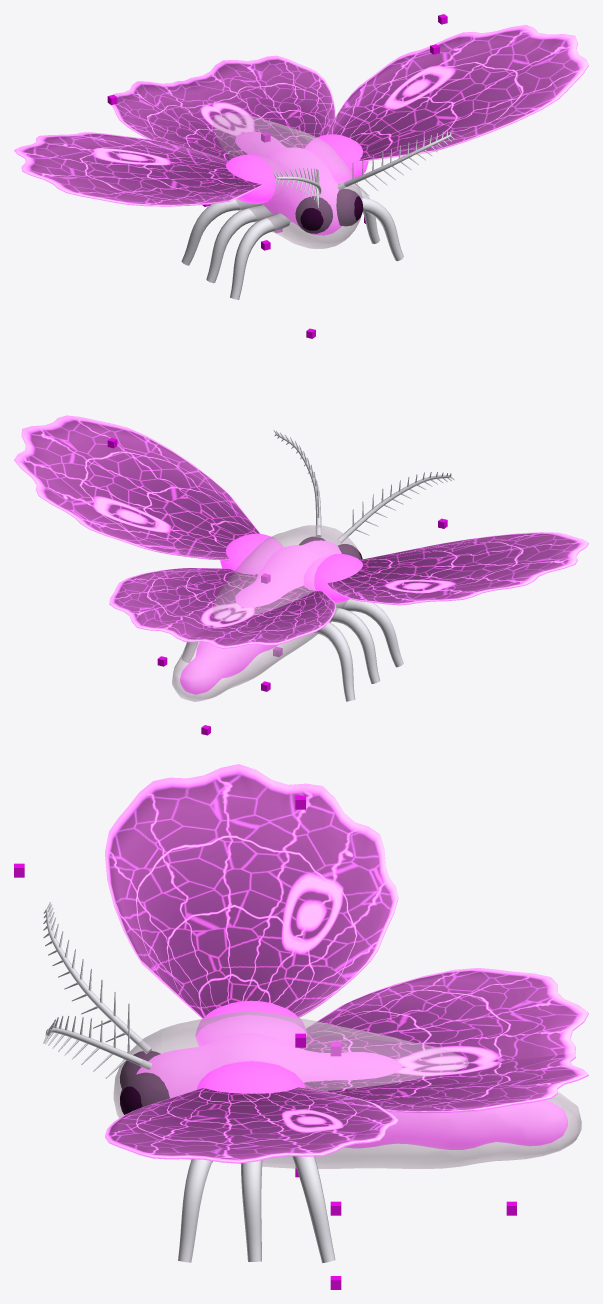
The model's file is 06_falena_yeti.glb.
3 views of the same model, one above another, from view 1: azimuth 30°, elevation 25°; view 2: azimuth 150°, elevation 25°; view 3: azimuth 270°, elevation 25° (orthographic). The views are drawn at different scales.
Parts seen in each view (by area): view 1: Yeti__Ali_Carnose__AlaAnt_R, Yeti__Ali_Carnose__AlaAnt_L, Yeti__Bagliore_Nella_Pelliccia, Yeti__Ali_Carnose__AlaPost_R, Yeti__Pelliccia, Yeti__Ali_Carnose__AlaPost_L, Yeti__Zampe, Yeti__Occhi, Yeti__Antenne; view 2: Yeti__Ali_Carnose__AlaAnt_R, Yeti__Bagliore_Nella_Pelliccia, Yeti__Ali_Carnose__AlaAnt_L, Yeti__Pelliccia, Yeti__Ali_Carnose__AlaPost_R, Yeti__Ali_Carnose__AlaPost_L, Yeti__Zampe, Yeti__Antenne; view 3: Yeti__Ali_Carnose__AlaAnt_L, Yeti__Bagliore_Nella_Pelliccia, Yeti__Ali_Carnose__AlaPost_L, Yeti__Pelliccia, Yeti__Ali_Carnose__AlaAnt_R, Yeti__Ali_Carnose__AlaPost_R, Yeti__Zampe, Yeti__Antenne, Yeti__Occhi.
Boxes of the visible parts, x1,y1,x2,y2 form: Yeti__Ali_Carnose__AlaAnt_R: [328, 25, 588, 161]; Yeti__Ali_Carnose__AlaAnt_L: [14, 132, 262, 206]; Yeti__Bagliore_Nella_Pelliccia: [213, 113, 362, 248]; Yeti__Ali_Carnose__AlaPost_R: [185, 55, 335, 148]; Yeti__Pelliccia: [226, 132, 368, 235]; Yeti__Ali_Carnose__AlaPost_L: [111, 80, 247, 160]; Yeti__Zampe: [181, 184, 403, 299]; Yeti__Occhi: [295, 188, 363, 233]; Yeti__Antenne: [273, 130, 454, 208]; Yeti__Ali_Carnose__AlaAnt_R: [14, 415, 260, 560]; Yeti__Bagliore_Nella_Pelliccia: [172, 525, 361, 701]; Yeti__Ali_Carnose__AlaAnt_L: [327, 532, 588, 605]; Yeti__Pelliccia: [180, 533, 362, 694]; Yeti__Ali_Carnose__AlaPost_R: [109, 568, 257, 642]; Yeti__Ali_Carnose__AlaPost_L: [182, 586, 335, 648]; Yeti__Zampe: [181, 599, 403, 701]; Yeti__Antenne: [273, 430, 454, 542]; Yeti__Ali_Carnose__AlaAnt_L: [105, 764, 398, 1018]; Yeti__Bagliore_Nella_Pelliccia: [113, 1011, 581, 1168]; Yeti__Ali_Carnose__AlaPost_L: [299, 968, 588, 1067]; Yeti__Pelliccia: [136, 1000, 567, 1149]; Yeti__Ali_Carnose__AlaAnt_R: [105, 1087, 398, 1163]; Yeti__Ali_Carnose__AlaPost_R: [304, 1053, 588, 1113]; Yeti__Zampe: [178, 1156, 335, 1263]; Yeti__Antenne: [43, 902, 151, 1078]; Yeti__Occhi: [120, 1050, 169, 1114].
Size of the model in its own units: 8.04 by 3.69 by 4.9.
7 materials, 1 textured.
